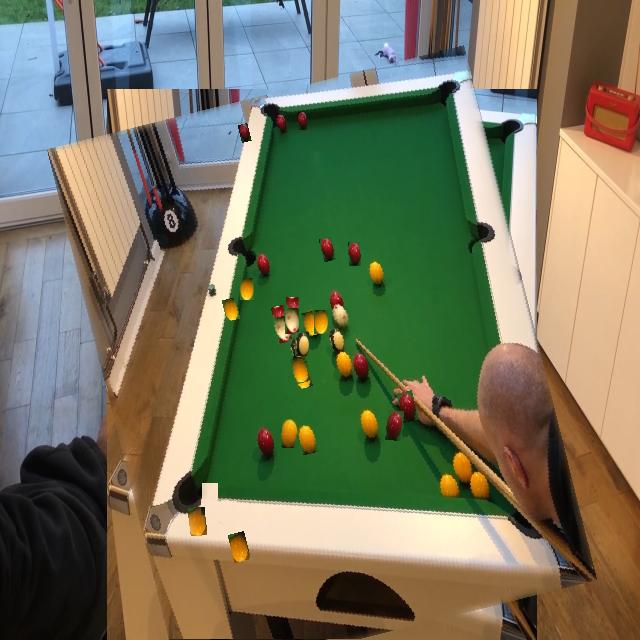Ball: (188, 507, 207, 536), (386, 411, 404, 441), (202, 483, 218, 515), (282, 419, 298, 448), (292, 357, 309, 384), (276, 362, 293, 388), (219, 501, 237, 525), (285, 308, 299, 334), (314, 310, 328, 334), (295, 332, 309, 356), (240, 278, 254, 300), (349, 242, 361, 266), (286, 297, 299, 311), (298, 112, 308, 130)
Billiard table: (76, 67, 567, 640)
